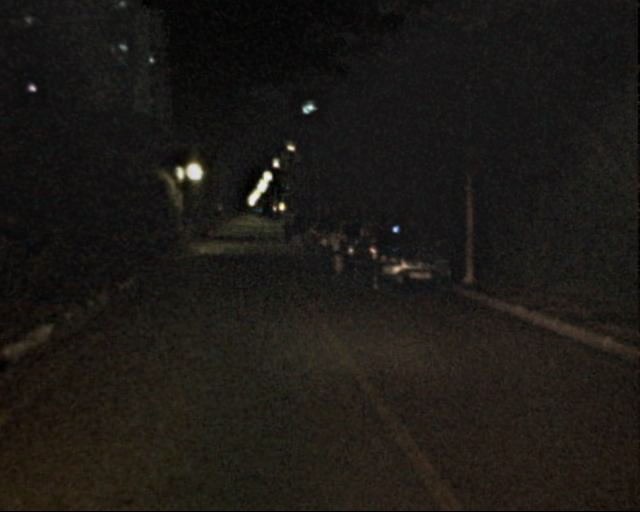person: (321, 221, 345, 279), (287, 216, 300, 247), (277, 220, 285, 240)
